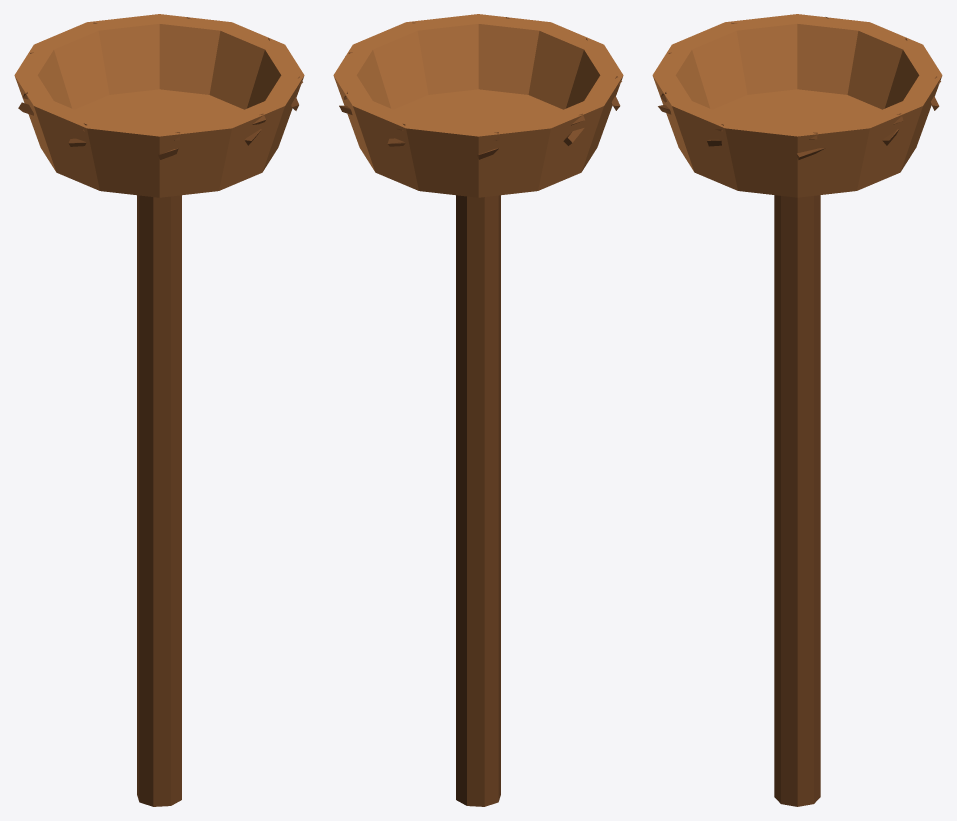
The model's file is nest_platform.fbx.
The picture shows the model from 3 angles, left to right: view 1: azimuth 30°, elevation 25°; view 2: azimuth 150°, elevation 25°; view 3: azimuth 270°, elevation 25°; orthographic projection.
Parts seen in each view (by area): view 1: nest_platform; view 2: nest_platform; view 3: nest_platform.
Boxes of the visible parts, box(x1,y1,x2,y2) form: nest_platform: box(14, 14, 304, 806); nest_platform: box(333, 14, 623, 806); nest_platform: box(652, 14, 942, 806).
Size of the model in its own units: 2 by 5.5 by 2.
